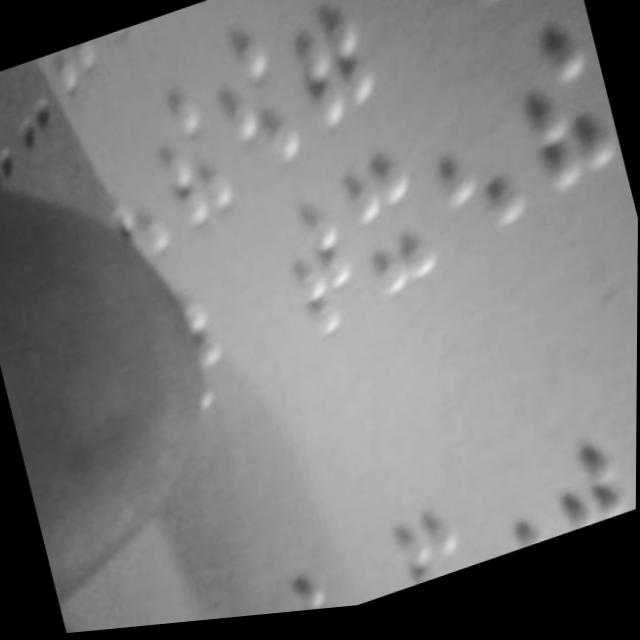braiile: (500, 25, 628, 217), (419, 90, 536, 270), (203, 16, 311, 187), (144, 79, 246, 253), (334, 157, 441, 319), (273, 0, 385, 142), (276, 212, 373, 361), (535, 424, 631, 549), (457, 476, 548, 575), (275, 571, 337, 619), (448, 0, 549, 29), (615, 392, 637, 521)
